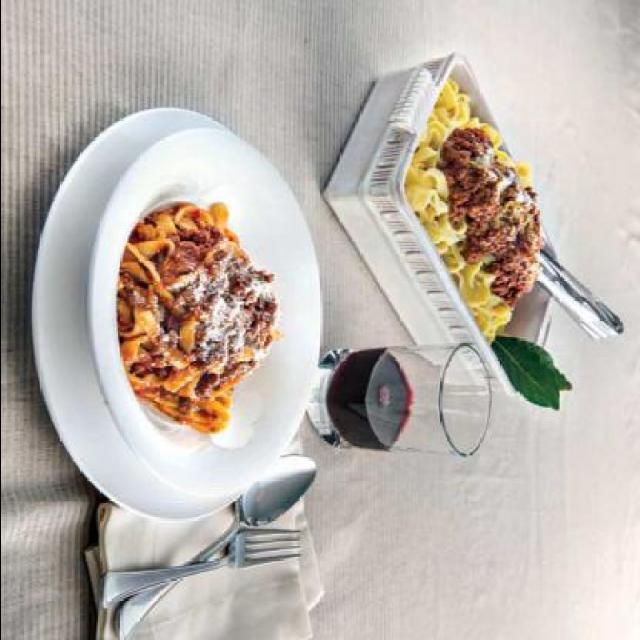Pasta al ragu: (101, 206, 297, 452), (398, 107, 546, 339)
